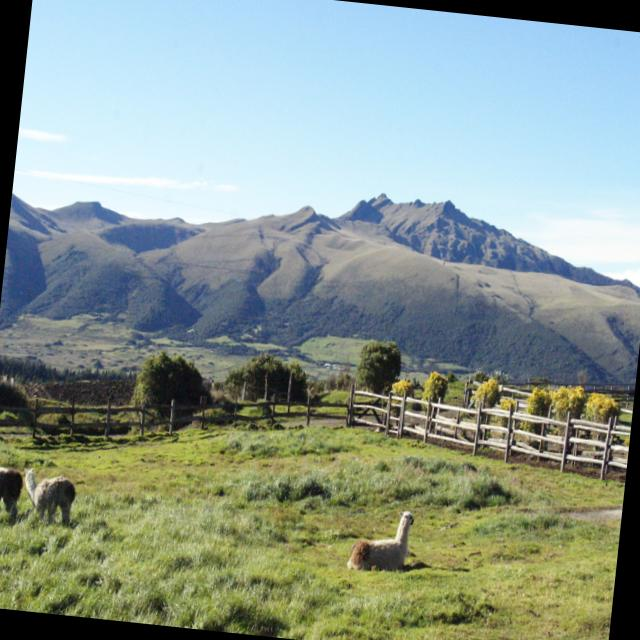alpaca: (344, 505, 414, 578), (17, 465, 78, 529), (0, 466, 22, 521)
